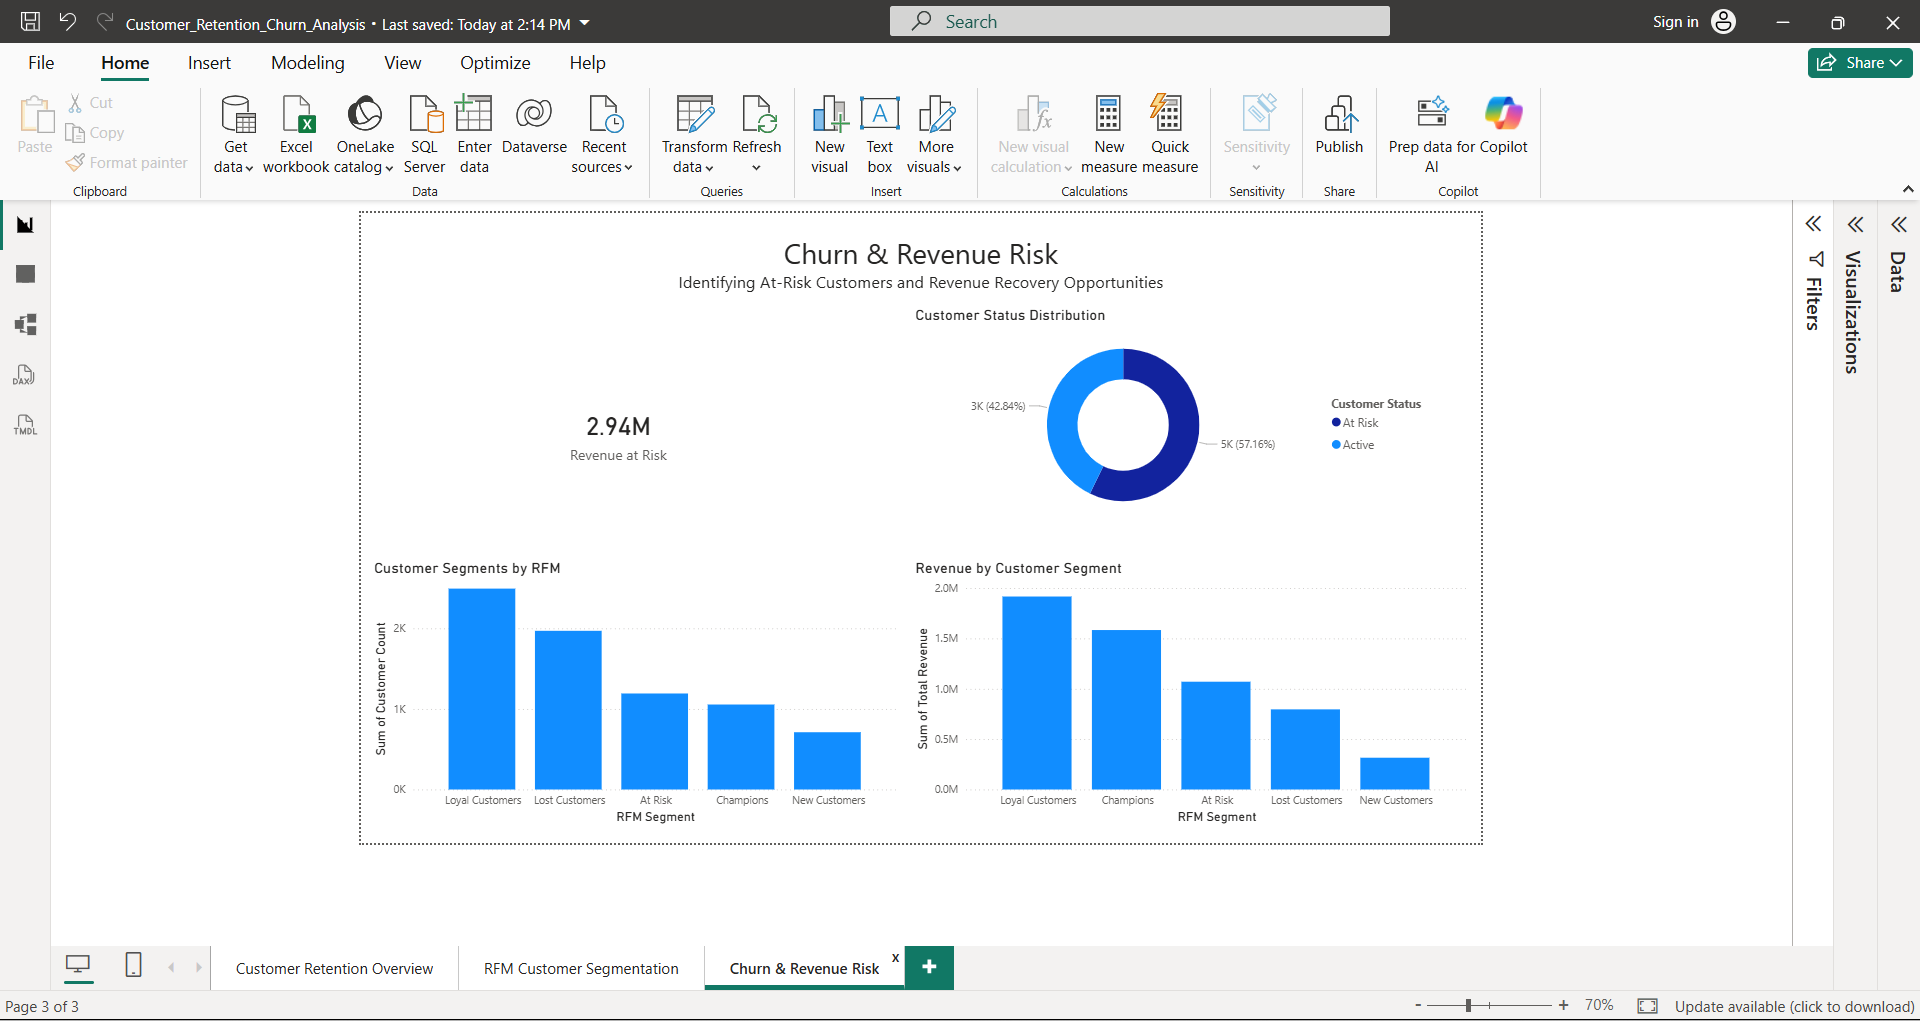

This screenshot's page, from the dashboard's own definition file:
{"tool":"powerbi","page":{"name":"Churn & Revenue Risk","canvas":[1280,720],"ordinal":2},"visuals":[{"type":"textbox","box":[10,18.6,1260,87.1],"z":0},{"type":"donutChart","title":"Customer Status Distribution","fields":{"Category":["Customer Status.Customer Status"],"Y":["Sum(Customer Status.Customer Count)"]},"box":[628.6,105.7,604.3,254.3],"z":1},{"type":"card","fields":{"Values":["KPI Validation.Revenue at Risk"]},"box":[134.3,177.1,320,150],"z":2},{"type":"clusteredColumnChart","title":"Customer Segments by RFM","fields":{"Category":["RFM Summary.RFM Segment"],"Y":["Sum(RFM Summary.Customer Count)"]},"box":[10,395.7,608.6,307.1],"z":3},{"type":"clusteredColumnChart","title":"Revenue by Customer Segment","fields":{"Category":["RFM Summary.RFM Segment"],"Y":["Sum(RFM Summary.Total Revenue)"]},"box":[628.6,395.7,641.4,307.1],"z":4}]}

Visuals, with their boxes on the page's 1280x720 design canvas (x1, y1, x2, y2). These are canvas units, not pixel positions in the 1920x1021 screenshot, which may show the page scaled, cropped or inside an application window:
textbox: pyautogui.locateOnScreen(10, 19, 1270, 106)
"Customer Status Distribution" donutChart: pyautogui.locateOnScreen(629, 106, 1233, 360)
card - KPI Validation.Revenue at Risk: pyautogui.locateOnScreen(134, 177, 454, 327)
"Customer Segments by RFM" clusteredColumnChart: pyautogui.locateOnScreen(10, 396, 619, 703)
"Revenue by Customer Segment" clusteredColumnChart: pyautogui.locateOnScreen(629, 396, 1270, 703)
